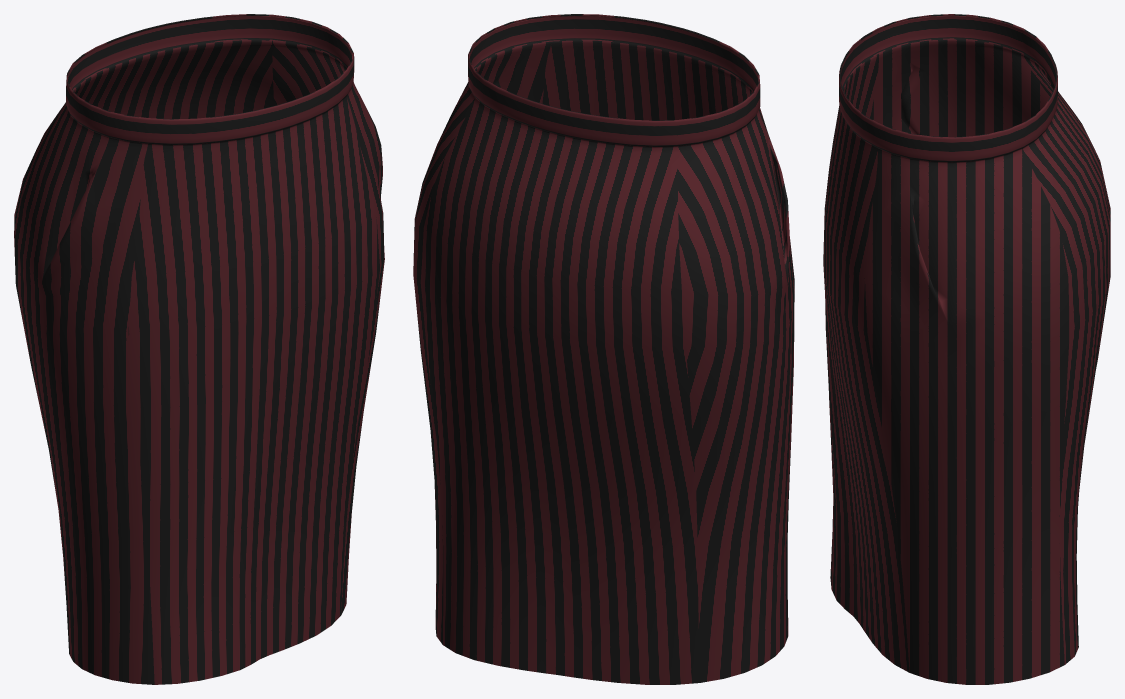
Rendered from skirt.obj.
3 renders of one model, left to right at view 1: azimuth 30°, elevation 25°; view 2: azimuth 150°, elevation 25°; view 3: azimuth 270°, elevation 25°, orthographic. The views are drawn at different scales.
Bounding box in the file's own units: 17.53 × 27.67 × 13.21.
Materials: 1 (1 with a texture image).
